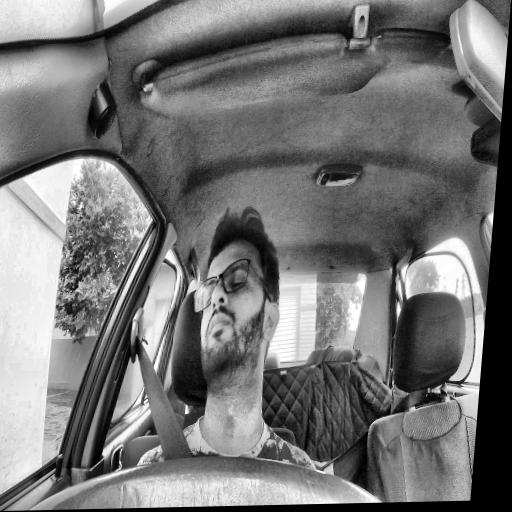drowsy: (186, 205, 289, 397)
